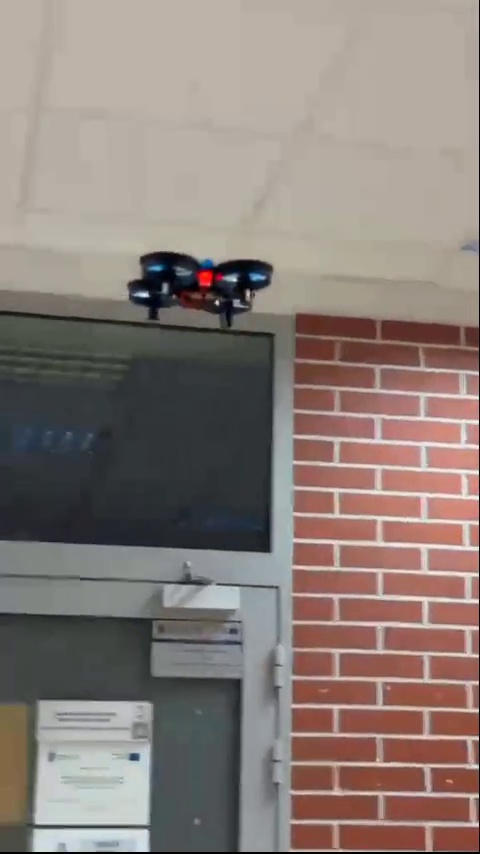drone: (127, 252, 273, 330)
